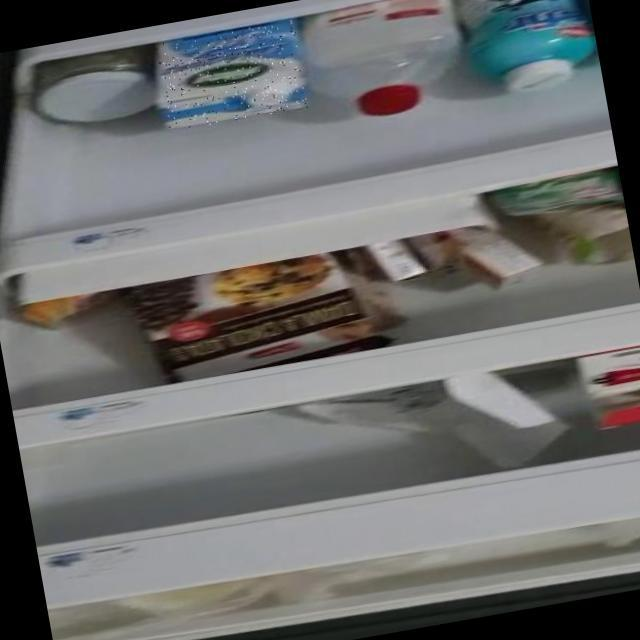milk: (153, 20, 307, 131)
